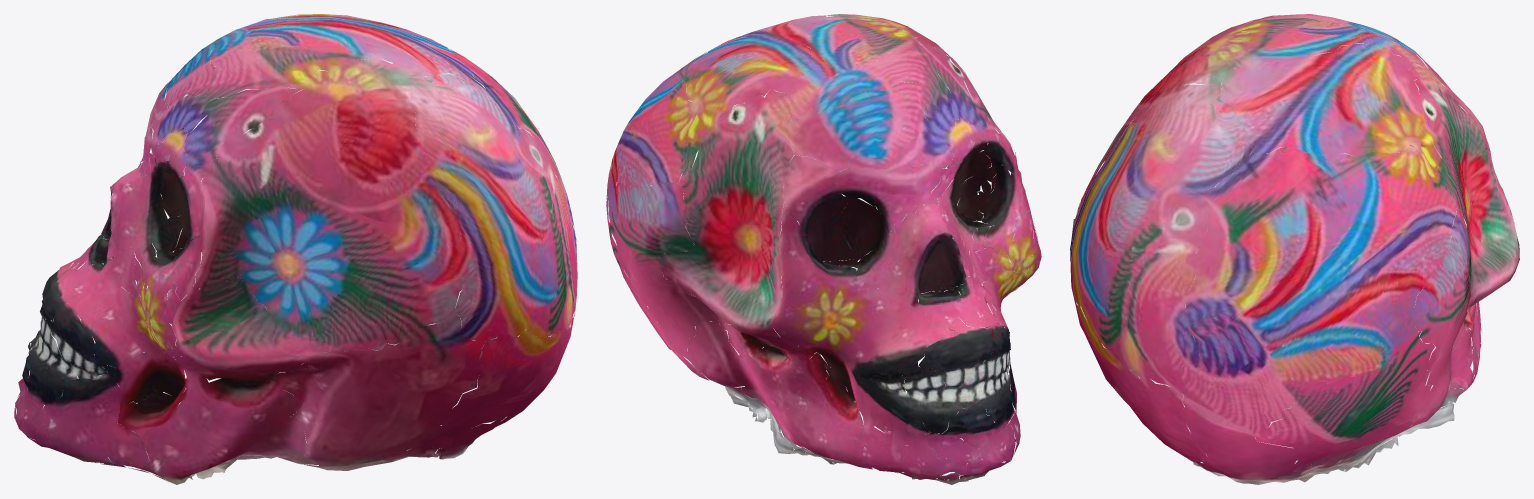
Rendered from calavera.glb.
3 views of the same model, side by side, from view 1: azimuth 30°, elevation 25°; view 2: azimuth 150°, elevation 25°; view 3: azimuth 270°, elevation 25° (orthographic). The views are drawn at different scales.
Parts seen in each view (by area): view 1: Object_4; view 2: Object_4; view 3: Object_4.
Boxes of the visible parts, left/top/right/bottom form: Object_4: left=14, top=14, right=577, bottom=484; Object_4: left=606, top=14, right=1041, bottom=484; Object_4: left=1070, top=14, right=1519, bottom=484.
Size of the model in its own units: 0.1832 by 0.1496 by 0.1568.
Materials: 1 (1 with a texture image).
